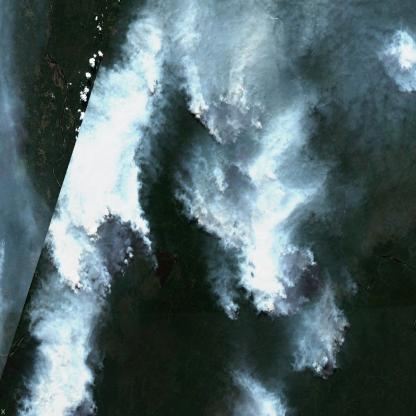fire: (40, 207, 143, 309), (186, 156, 286, 246), (186, 86, 266, 152), (247, 257, 298, 317), (308, 316, 350, 388), (373, 38, 416, 97), (140, 77, 167, 103)
